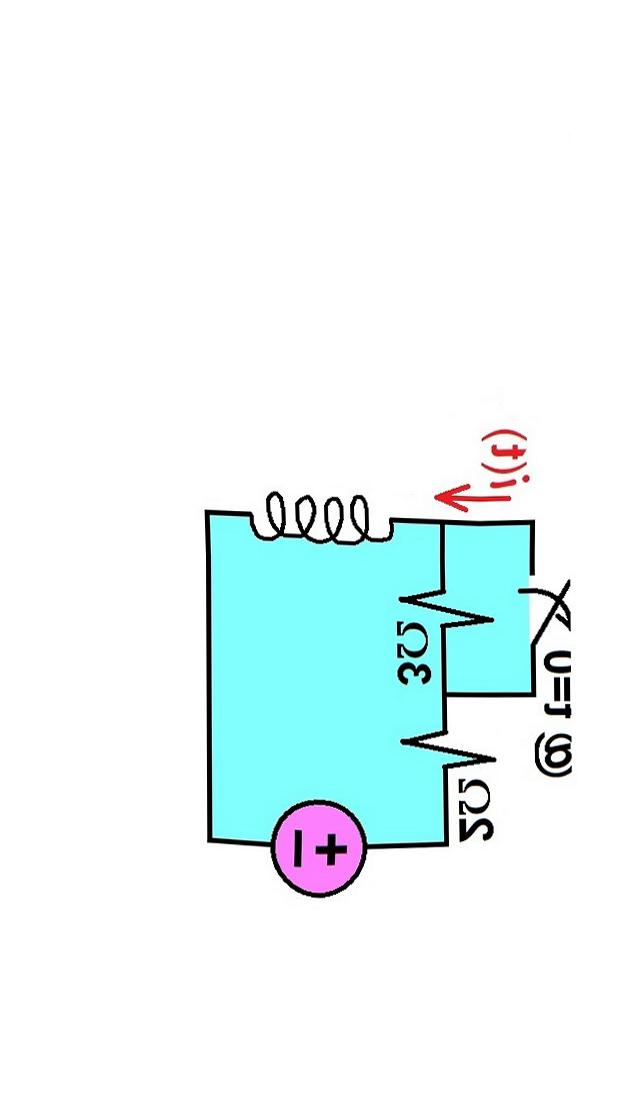Battery: (243, 777, 385, 934)
